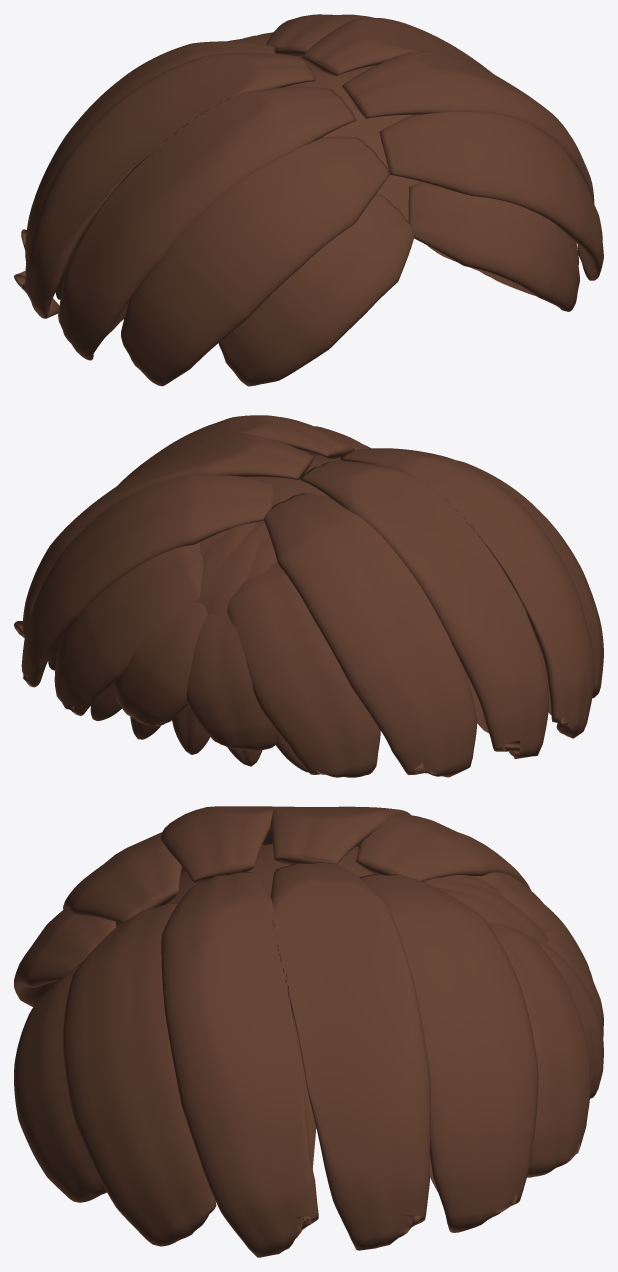
File: Masculine-middle-part-pashmina261-hair.glb
3 renders of one model, top to bottom at view 1: azimuth 30°, elevation 25°; view 2: azimuth 150°, elevation 25°; view 3: azimuth 270°, elevation 25°, orthographic. The views are drawn at different scales.
Visible parts, largest first — view 1: 226 hair / Hair260 / layered middle-part; view 2: 226 hair / Hair260 / layered middle-part; view 3: 226 hair / Hair260 / layered middle-part.
Part boxes in pixels (bbox=[...]): 226 hair / Hair260 / layered middle-part: bbox=[14, 14, 603, 386]; 226 hair / Hair260 / layered middle-part: bbox=[14, 415, 603, 777]; 226 hair / Hair260 / layered middle-part: bbox=[14, 806, 603, 1257].
Size of the model in its own units: 1.03 by 0.4506 by 0.8741.
